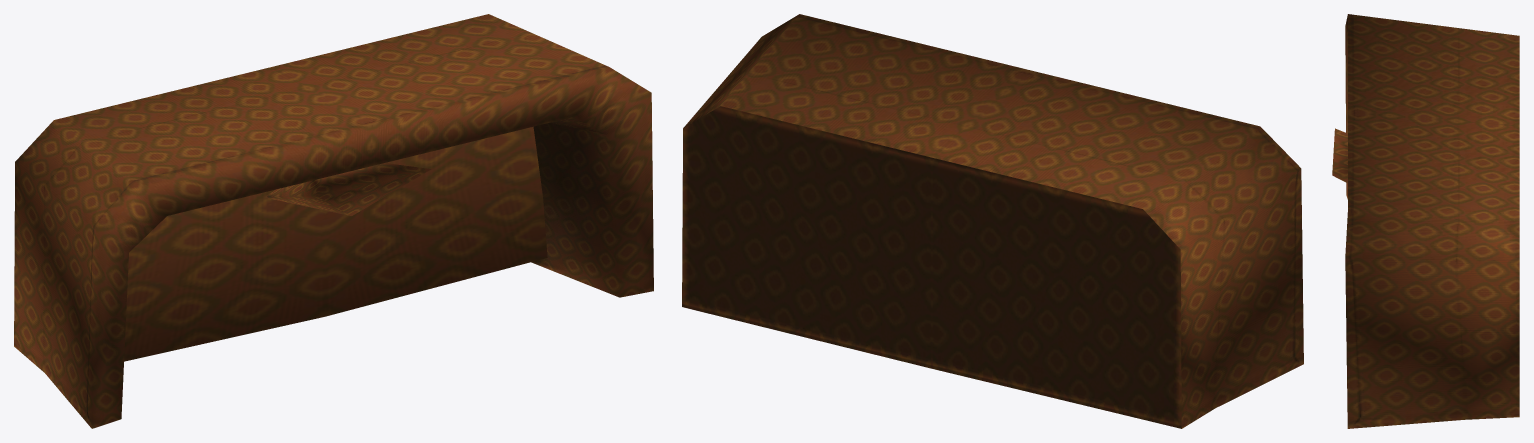
File: nt_2020_moving_couch_01_LOD2.obj
3 views of the same model, side by side, from view 1: azimuth 30°, elevation 25°; view 2: azimuth 150°, elevation 25°; view 3: azimuth 270°, elevation 25° (orthographic). The views are drawn at different scales.
Visible parts, largest first — view 1: mtl_nt_2020_moving_couch_01; view 2: mtl_nt_2020_moving_couch_01; view 3: mtl_nt_2020_moving_couch_01.
Boxes of the visible parts, x1,y1,x2,y2 form: mtl_nt_2020_moving_couch_01: [14, 14, 653, 428]; mtl_nt_2020_moving_couch_01: [682, 14, 1303, 428]; mtl_nt_2020_moving_couch_01: [1332, 14, 1519, 428].
Size of the model in its own units: 217 by 87.45 by 73.81.
